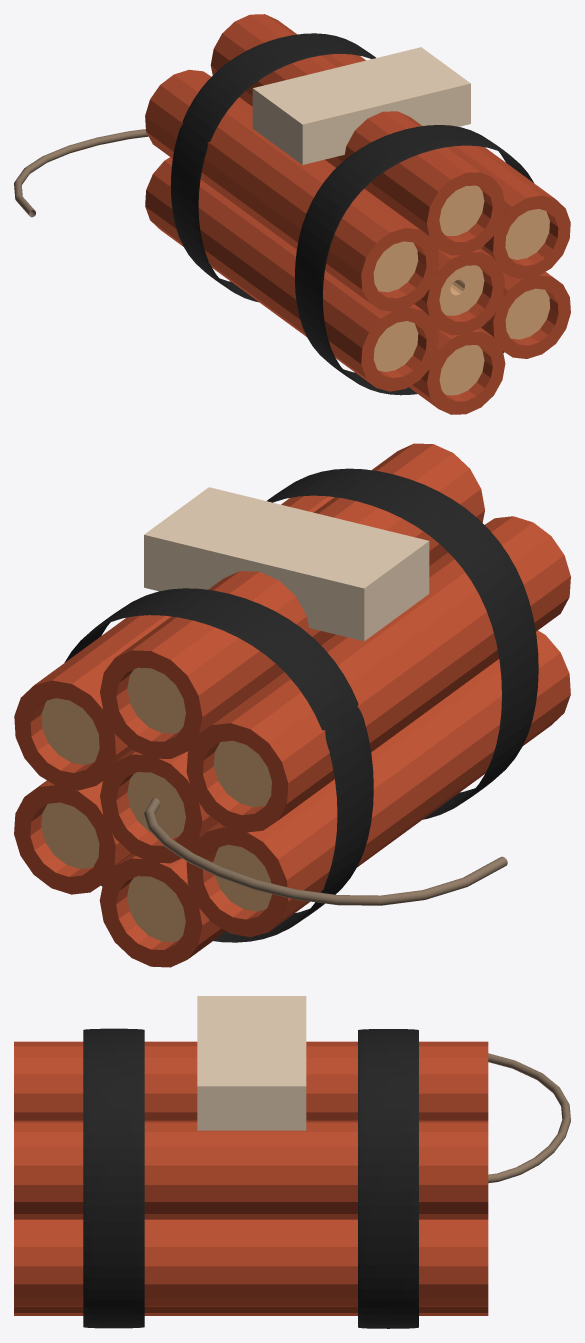
Rendered from panelDynamite_Separate.fbx.
3 views of the same model, one above another, from view 1: azimuth 30°, elevation 25°; view 2: azimuth 150°, elevation 25°; view 3: azimuth 270°, elevation 25° (orthographic). The views are drawn at different scales.
Visible parts, largest first — view 1: Динамит, Завязки, Cube, Фитиль; view 2: Динамит, Завязки, Cube, Фитиль; view 3: Динамит, Завязки, Cube, Фитиль.
Boxes of the visible parts, x1,y1,x2,y2 form: Динамит: (145, 14, 570, 414); Завязки: (170, 33, 533, 395); Cube: (252, 47, 470, 164); Фитиль: (14, 129, 148, 217); Динамит: (14, 443, 570, 967); Завязки: (64, 468, 538, 942); Cube: (144, 487, 429, 641); Фитиль: (144, 798, 507, 905); Динамит: (14, 1041, 488, 1315); Завязки: (83, 1028, 418, 1328); Cube: (197, 996, 306, 1130); Фитиль: (488, 1053, 570, 1183).
Size of the model in its own units: 676 by 448 by 825.
